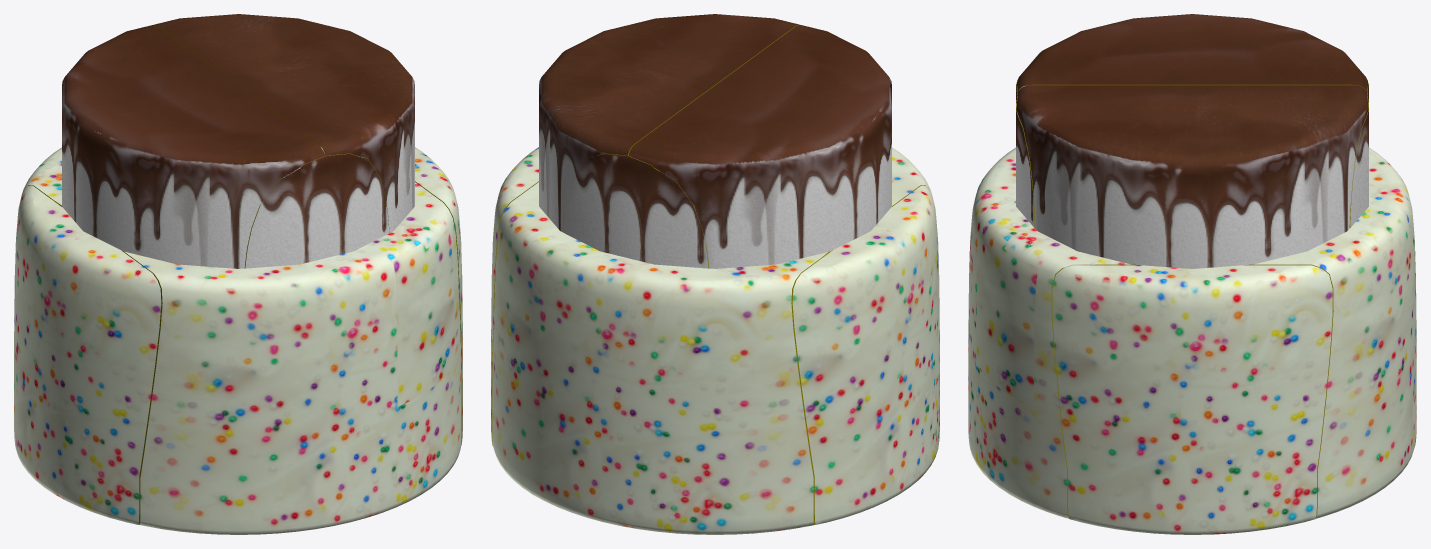
File: cake.FBX
3 views of the same model, side by side, from view 1: azimuth 30°, elevation 25°; view 2: azimuth 150°, elevation 25°; view 3: azimuth 270°, elevation 25° (orthographic).
Parts seen in each view (by area): view 1: 10_08, 10_01, 10_07, 10_05, 10_02, 10_09, 10_06; view 2: 10_06, 10_01, 10_07, 10_05, 10_04, 10_09, 10_08; view 3: 10_09, 10_05, 10_08, 10_06, 10_01, 10_02, 10_04.
Part boxes in pixels (<box>): 10_08: <box>122,182,461,534</box>; 10_01: <box>62,25,325,268</box>; 10_07: <box>14,185,161,524</box>; 10_05: <box>154,14,414,232</box>; 10_02: <box>244,153,389,268</box>; 10_09: <box>415,147,462,445</box>; 10_06: <box>24,147,61,206</box>; 10_06: <box>492,182,832,534</box>; 10_01: <box>628,25,891,268</box>; 10_07: <box>792,185,939,524</box>; 10_05: <box>539,14,799,232</box>; 10_04: <box>564,153,709,268</box>; 10_09: <box>491,147,538,445</box>; 10_08: <box>892,147,929,206</box>; 10_09: <box>1052,265,1332,534</box>; 10_05: <box>1016,85,1368,268</box>; 10_08: <box>968,147,1139,518</box>; 10_06: <box>1245,147,1416,518</box>; 10_01: <box>1016,14,1368,91</box>; 10_02: <box>1016,83,1035,227</box>; 10_04: <box>1349,83,1368,227</box>.
Size of the model in its own units: 470 by 413 by 469.
